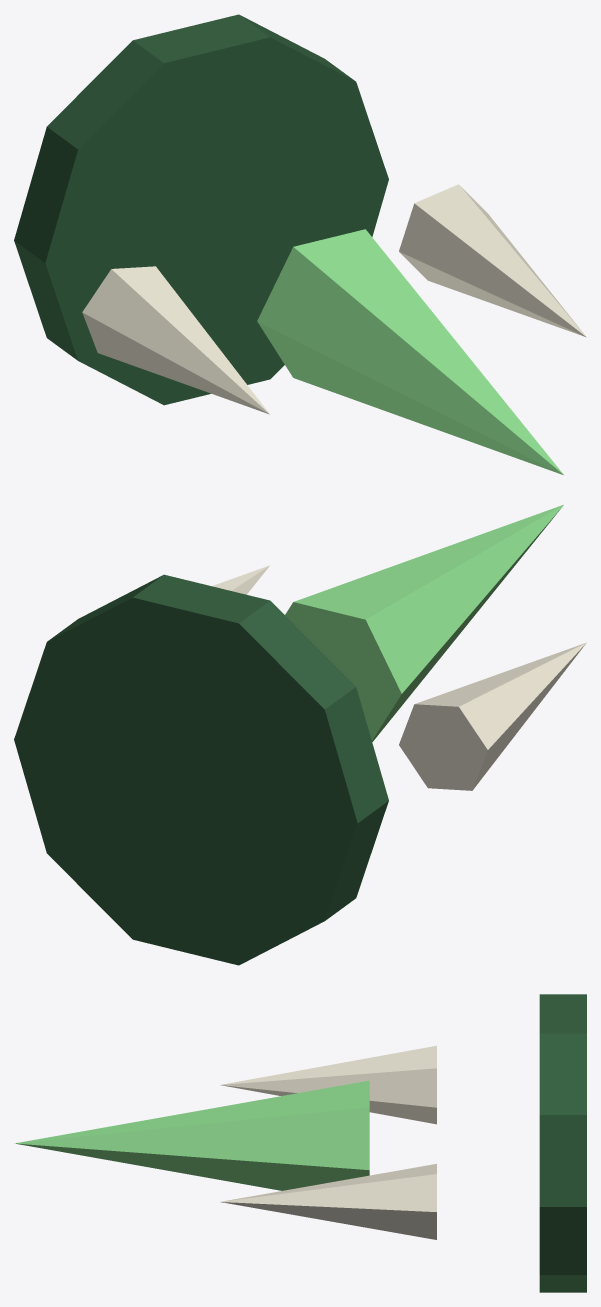
The model's file is 02_low_poly_silhouette_overlay_2.glb.
The picture shows the model from 3 angles, top to bottom: view 1: azimuth 30°, elevation 25°; view 2: azimuth 150°, elevation 25°; view 3: azimuth 270°, elevation 25°; orthographic projection. The views are drawn at different scales.
Parts seen in each view (by area): view 1: socket_base, silhouette_spike_main, silhouette_spike_l, silhouette_spike_r; view 2: socket_base, silhouette_spike_main, silhouette_spike_l, silhouette_spike_r; view 3: silhouette_spike_main, socket_base, silhouette_spike_r, silhouette_spike_l.
Part boxes in pixels (x1,y1,x2,y2): socket_base: (14, 14, 388, 405); silhouette_spike_main: (257, 229, 563, 475); silhouette_spike_l: (82, 266, 269, 414); silhouette_spike_r: (399, 184, 586, 337); socket_base: (14, 574, 388, 965); silhouette_spike_main: (285, 504, 563, 741); silhouette_spike_l: (399, 642, 586, 790); silhouette_spike_r: (212, 565, 269, 594); silhouette_spike_main: (14, 1080, 369, 1190); socket_base: (539, 994, 586, 1292); silhouette_spike_r: (220, 1164, 436, 1239); silhouette_spike_l: (220, 1045, 436, 1124).
Size of the model in its own units: 0.897 by 0.7228 by 1.45.
